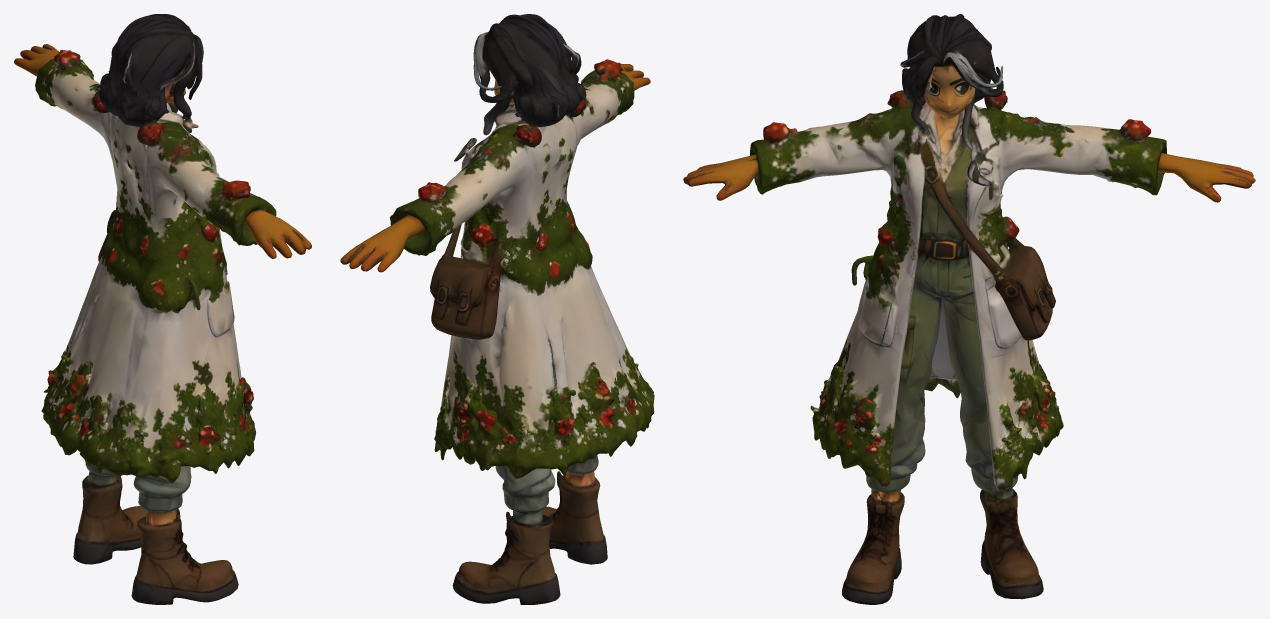
Rendered from n2_story_moor.aee7e150.glb.
The picture shows the model from 3 angles, left to right: view 1: azimuth 30°, elevation 25°; view 2: azimuth 150°, elevation 25°; view 3: azimuth 270°, elevation 25°; orthographic projection. The views are drawn at different scales.
Parts seen in each view (by area): view 1: tripo_node_e3f58c35-c061-45f3-87cd-ab4ce7799842; view 2: tripo_node_e3f58c35-c061-45f3-87cd-ab4ce7799842; view 3: tripo_node_e3f58c35-c061-45f3-87cd-ab4ce7799842.
Part boxes in pixels (bbox=[...]): tripo_node_e3f58c35-c061-45f3-87cd-ab4ce7799842: bbox=[14, 14, 311, 604]; tripo_node_e3f58c35-c061-45f3-87cd-ab4ce7799842: bbox=[340, 14, 654, 604]; tripo_node_e3f58c35-c061-45f3-87cd-ab4ce7799842: bbox=[683, 14, 1255, 604].
Bounding box in the file's own units: 0.3183 × 0.9998 × 0.9065.
Materials: 1 (1 with a texture image).
